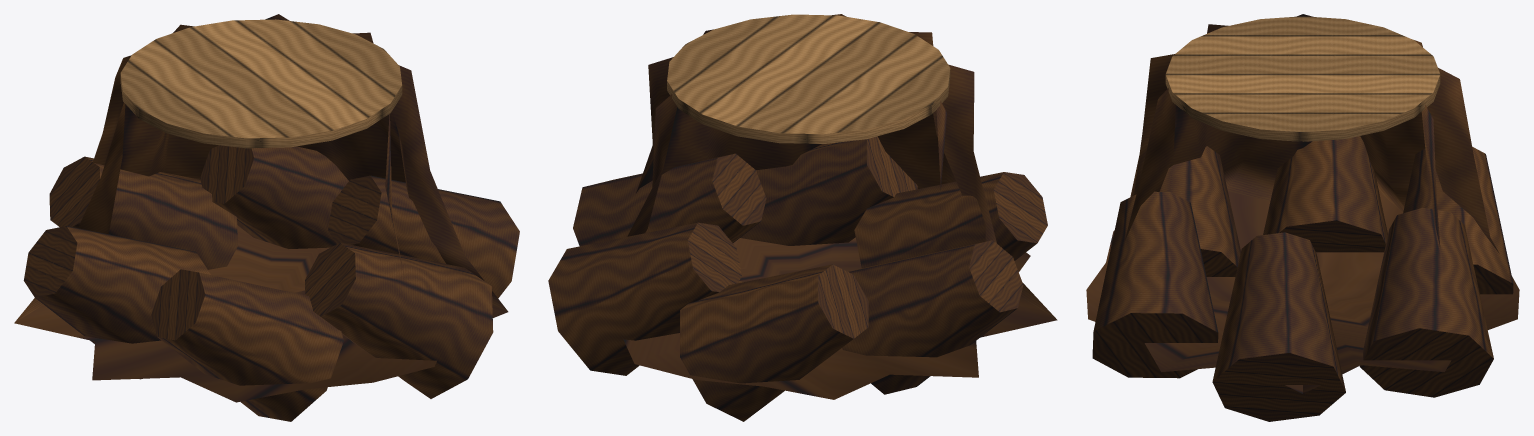
The model's file is stump.glb.
3 renders of one model, left to right at view 1: azimuth 30°, elevation 25°; view 2: azimuth 150°, elevation 25°; view 3: azimuth 270°, elevation 25°, orthographic. The views are drawn at different scales.
Parts seen in each view (by area): view 1: WeatheredTreeStump; view 2: WeatheredTreeStump; view 3: WeatheredTreeStump.
Boxes of the visible parts, x1,y1,x2,y2 form: WeatheredTreeStump: (14, 14, 519, 421); WeatheredTreeStump: (548, 14, 1057, 421); WeatheredTreeStump: (1086, 14, 1519, 421).
Bounding box in the file's own units: 47.63 × 28.16 × 41.
Materials: 2 (2 with a texture image).
